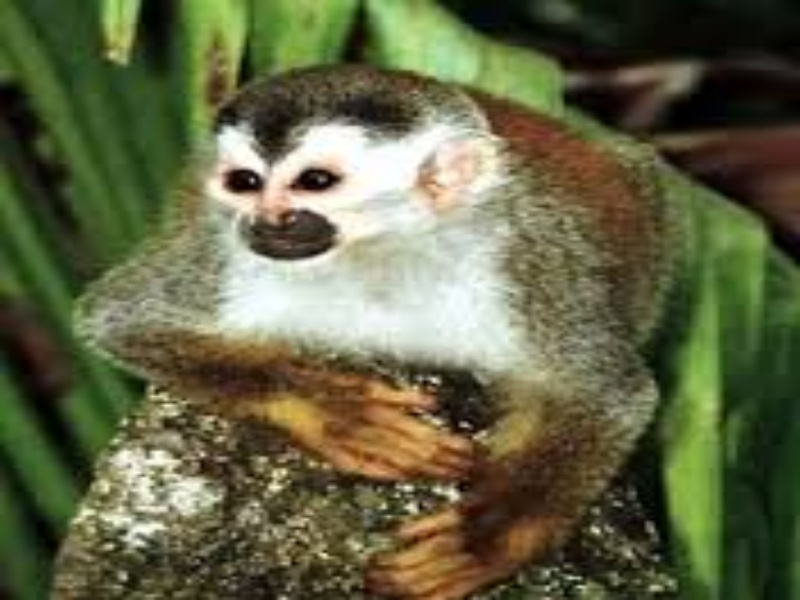monkey: (57, 54, 740, 592)
